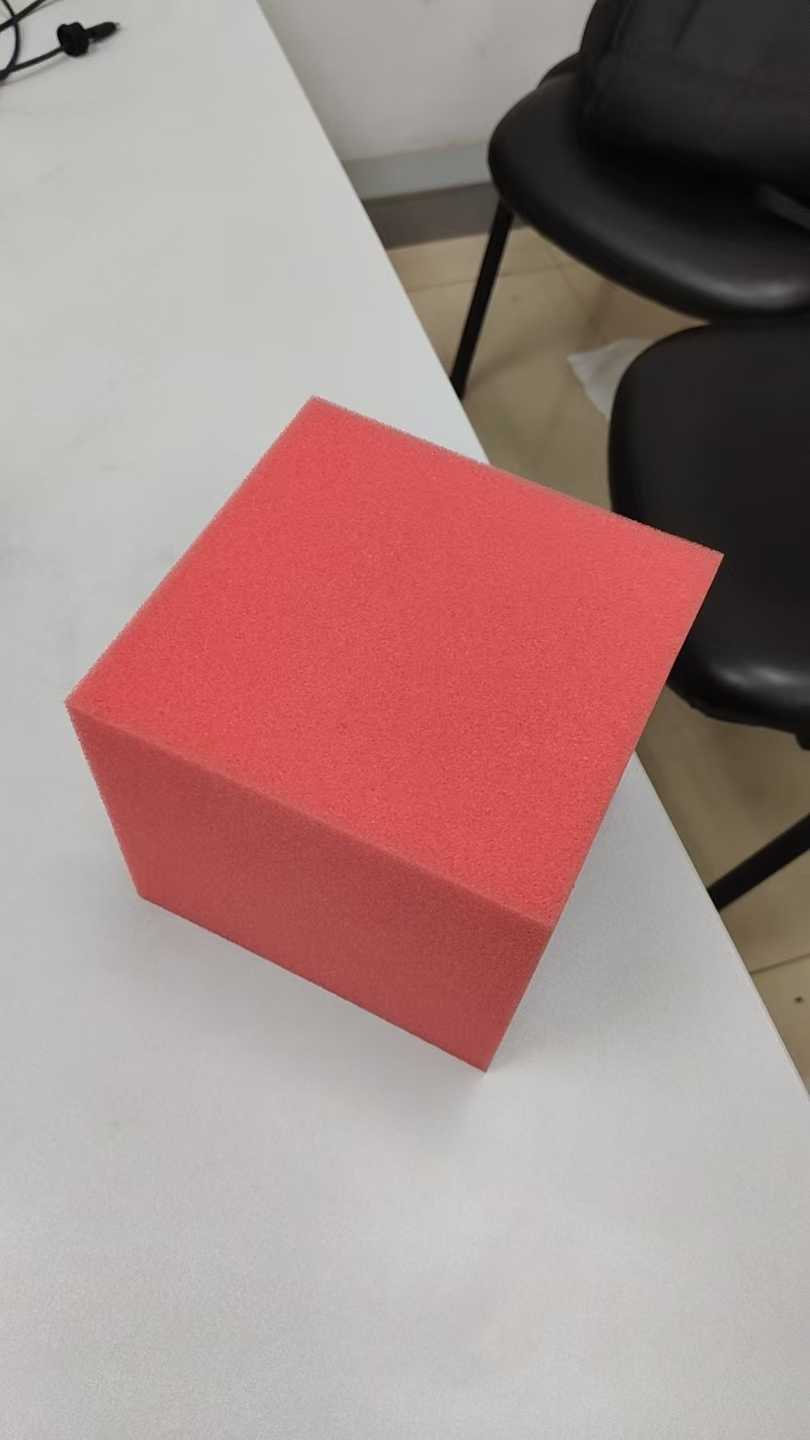red_large: (62, 394, 719, 1076)
